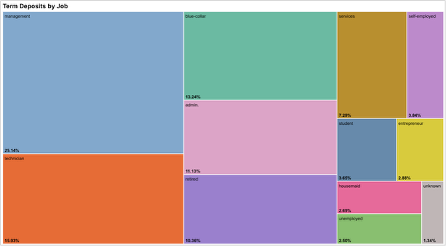

Layout of this report page (visuals, bound fields, positions):
{"tool":"powerbi","page":{"name":"Tree Map","canvas":[1280,720],"ordinal":1},"visuals":[{"type":"treemap","title":"Term Deposits by Job","fields":{"Details":["Sheet1.job"],"Values":["CountNonNull(Sheet1.deposit)"]},"box":[10,14,1226.1,671],"z":0}]}

Visuals, with their boxes in screenshot pixels (x1, y1, x2, y2), scaled from the page's 1280x720 canvas onto the 446x246 screenshot:
"Term Deposits by Job" treemap: left=3, top=5, right=431, bottom=234
